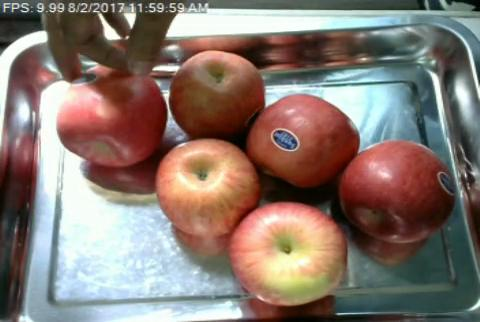apple: (340, 139, 456, 244), (229, 203, 347, 306), (248, 94, 360, 188), (55, 74, 166, 168), (156, 139, 261, 235), (169, 50, 261, 137)
